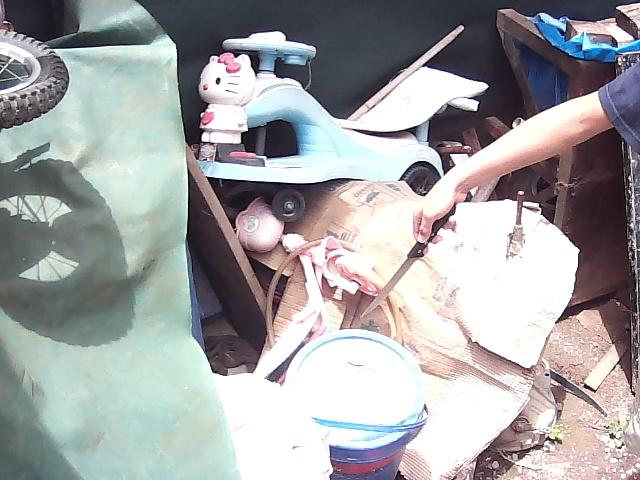cuchillo: (357, 227, 435, 321)
